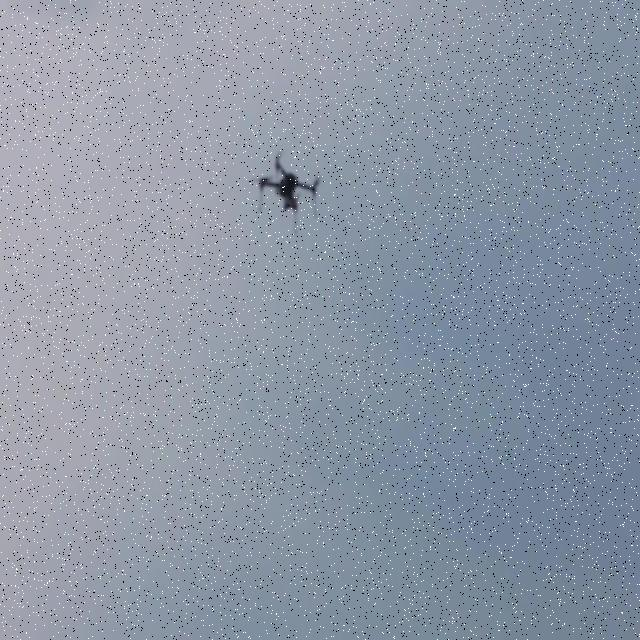UAV: (250, 151, 322, 236)
